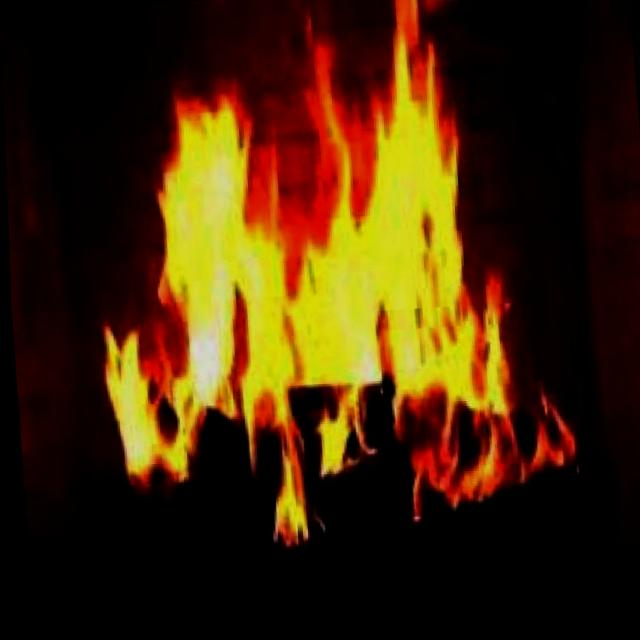helmet: (67, 0, 590, 575)
